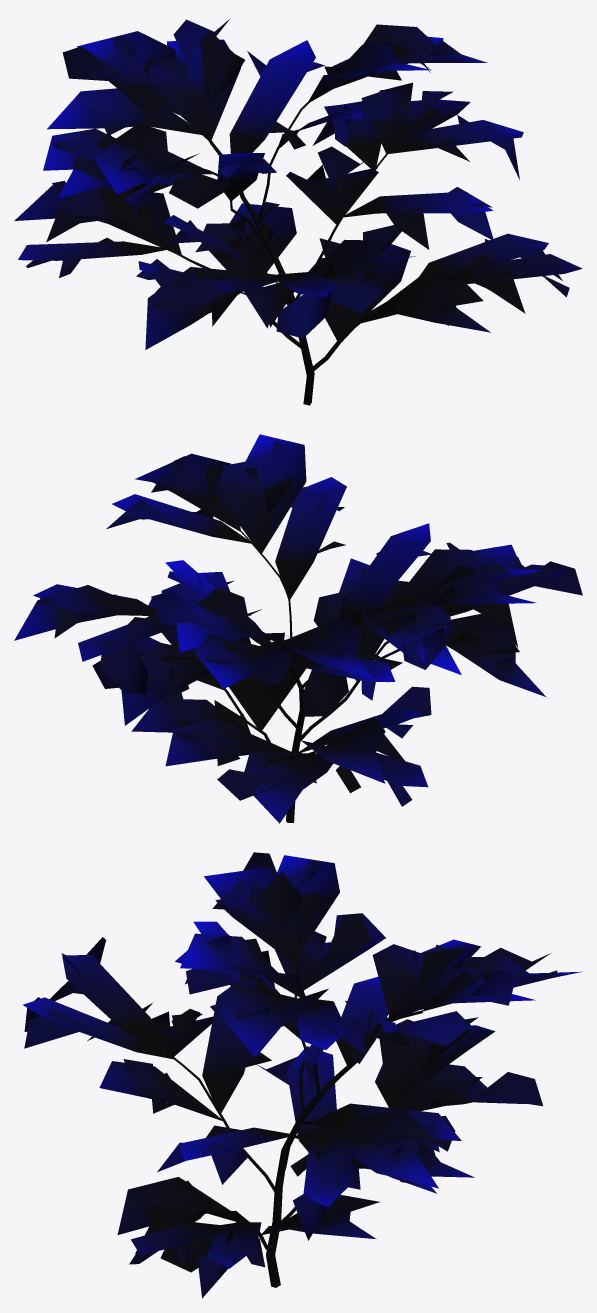
The model's file is SM_EuropeanBeech_03.fbx.
The picture shows the model from 3 angles, top to bottom: view 1: azimuth 30°, elevation 25°; view 2: azimuth 150°, elevation 25°; view 3: azimuth 270°, elevation 25°; orthographic projection. The views are drawn at different scales.
Visible parts, largest first — view 1: SM_EuropeanBeech_03_LOD0; view 2: SM_EuropeanBeech_03_LOD0; view 3: SM_EuropeanBeech_03_LOD0.
Boxes of the visible parts, x1,y1,x2,y2 form: SM_EuropeanBeech_03_LOD0: (14, 19, 582, 405); SM_EuropeanBeech_03_LOD0: (14, 434, 582, 823); SM_EuropeanBeech_03_LOD0: (23, 852, 582, 1298).
Bounding box in the file's own units: 174 × 167 × 119.
